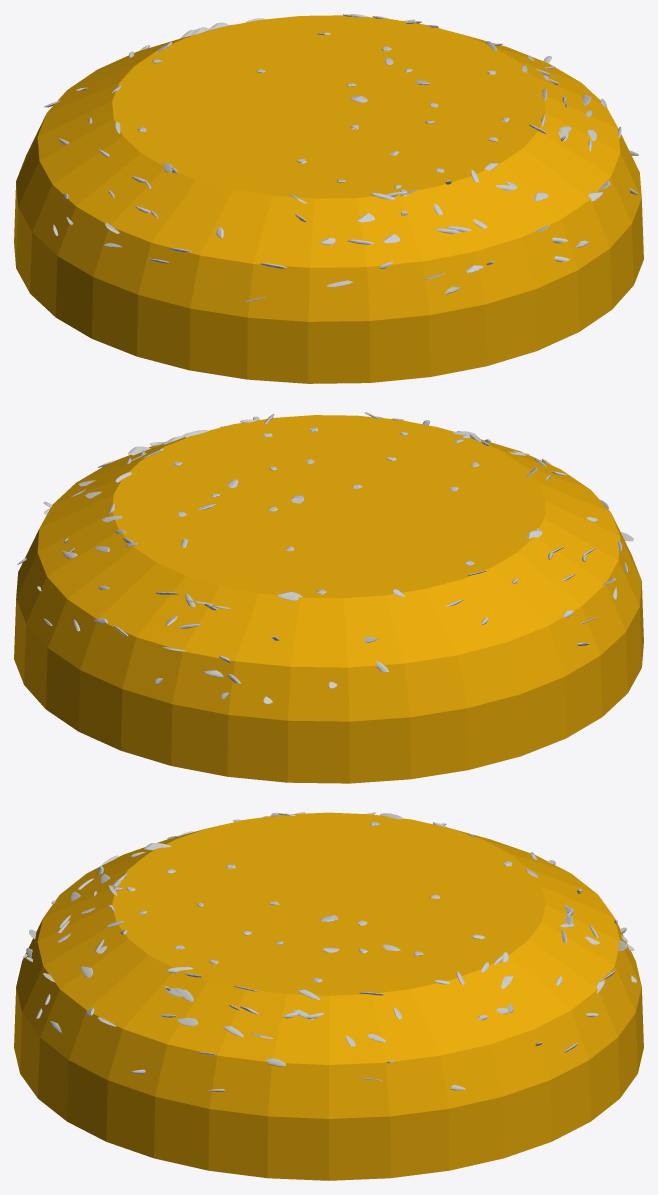
Rendered from burger_top.fbx.
The picture shows the model from 3 angles, top to bottom: view 1: azimuth 30°, elevation 25°; view 2: azimuth 150°, elevation 25°; view 3: azimuth 270°, elevation 25°; orthographic projection.
Visible parts, largest first — view 1: Burger Top; view 2: Burger Top; view 3: Burger Top.
Boxes of the visible parts, box(x1,y1,x2,y2) form: Burger Top: box(14, 15, 643, 383); Burger Top: box(14, 415, 643, 783); Burger Top: box(14, 812, 643, 1180).
Bounding box in the file's own units: 87.42 × 22.49 × 87.42.
